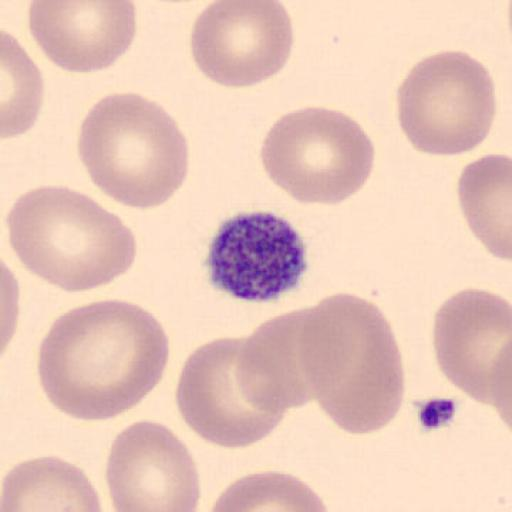Platelet: (201, 207, 312, 305), (412, 393, 460, 435)
RBC: (36, 297, 172, 422), (295, 292, 406, 436), (6, 184, 138, 294), (76, 89, 191, 211), (174, 334, 290, 449), (258, 104, 376, 208), (395, 48, 498, 158), (235, 304, 338, 410), (189, 0, 296, 89), (432, 286, 512, 405), (104, 417, 202, 512), (27, 0, 139, 76), (233, 316, 313, 410), (456, 150, 512, 262), (0, 453, 104, 512), (207, 468, 331, 512), (2, 30, 44, 140), (488, 338, 512, 438), (0, 259, 20, 360)
